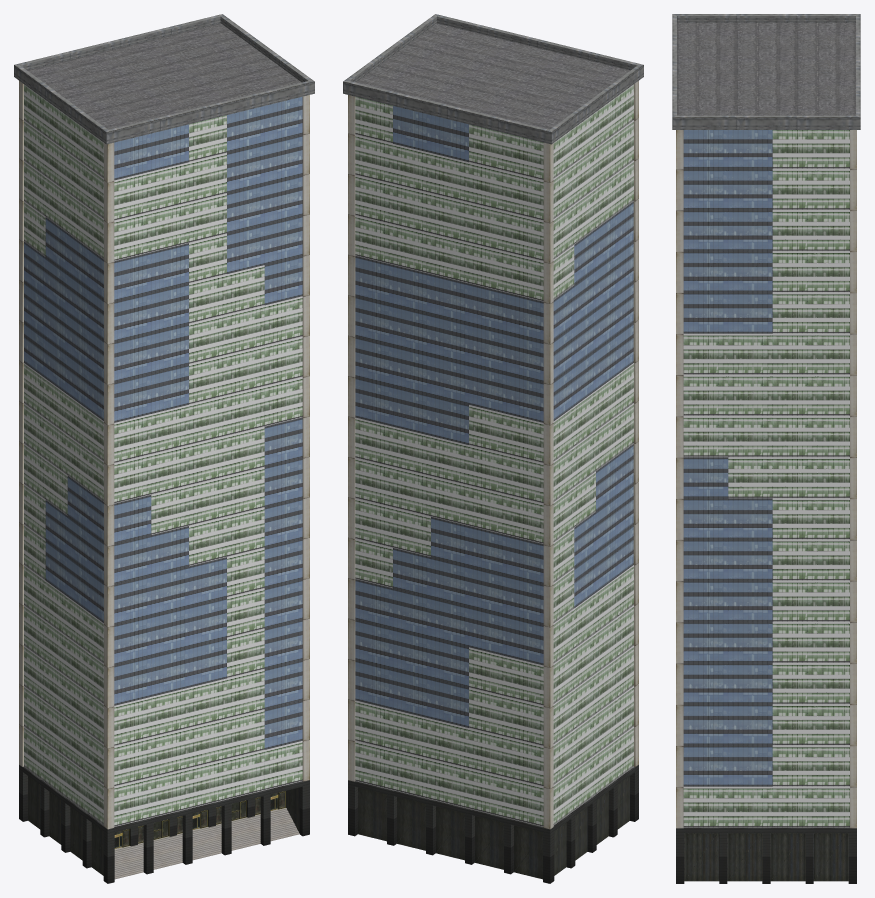
Rendered from downtown_skyscraper_4.FBX.
3 views of the same model, side by side, from view 1: azimuth 30°, elevation 25°; view 2: azimuth 150°, elevation 25°; view 3: azimuth 270°, elevation 25° (orthographic).
Visible parts, largest first — view 1: downtown_skyscraper_4, em_win_dwtn_skyscraper_4; view 2: downtown_skyscraper_4, em_win_dwtn_skyscraper_4; view 3: downtown_skyscraper_4, em_win_dwtn_skyscraper_4.
Part boxes in pixels (bbox=[...]): downtown_skyscraper_4: bbox=[14, 14, 314, 883]; em_win_dwtn_skyscraper_4: bbox=[24, 84, 302, 826]; downtown_skyscraper_4: bbox=[343, 14, 643, 883]; em_win_dwtn_skyscraper_4: bbox=[355, 84, 633, 826]; downtown_skyscraper_4: bbox=[672, 14, 860, 883]; em_win_dwtn_skyscraper_4: bbox=[683, 130, 849, 827].
Size of the model in its own units: 231 by 797 by 177.
